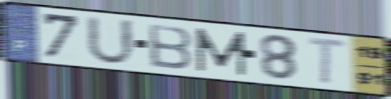7: (41, 11, 82, 60)
8: (257, 33, 298, 82)
B: (146, 22, 195, 71)
M: (193, 26, 248, 77)
T: (305, 34, 348, 86)
U: (84, 13, 138, 67)
